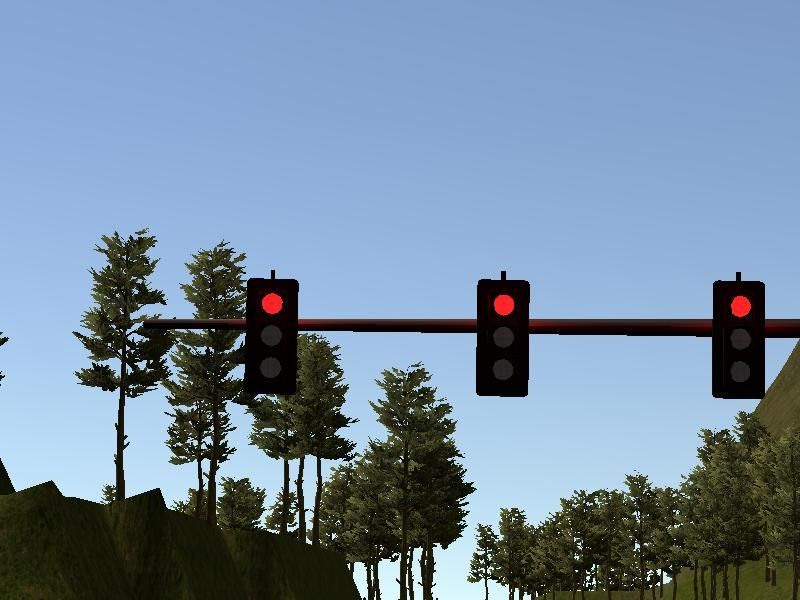Red: (710, 278, 769, 402), (475, 277, 531, 400), (244, 275, 299, 397)
